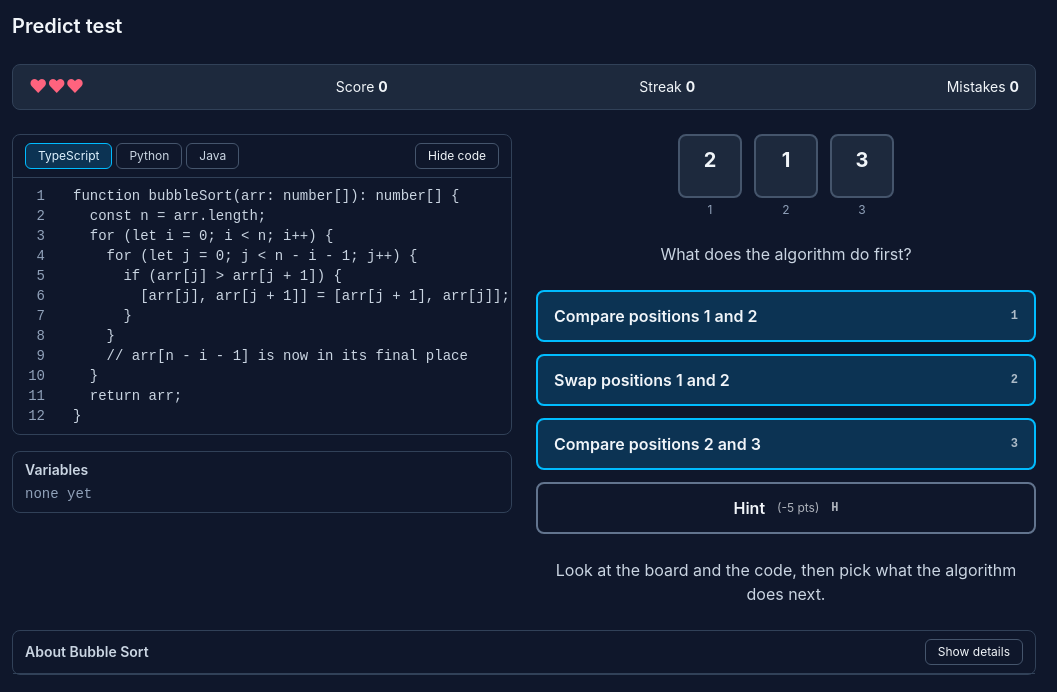
Test: PredictScreen › Hint costs points, opens Watch before the question and keeps the game
Click the button "Compare positions 1 and 2 1".
click(656, 316)  # box [536,290,1036,342]
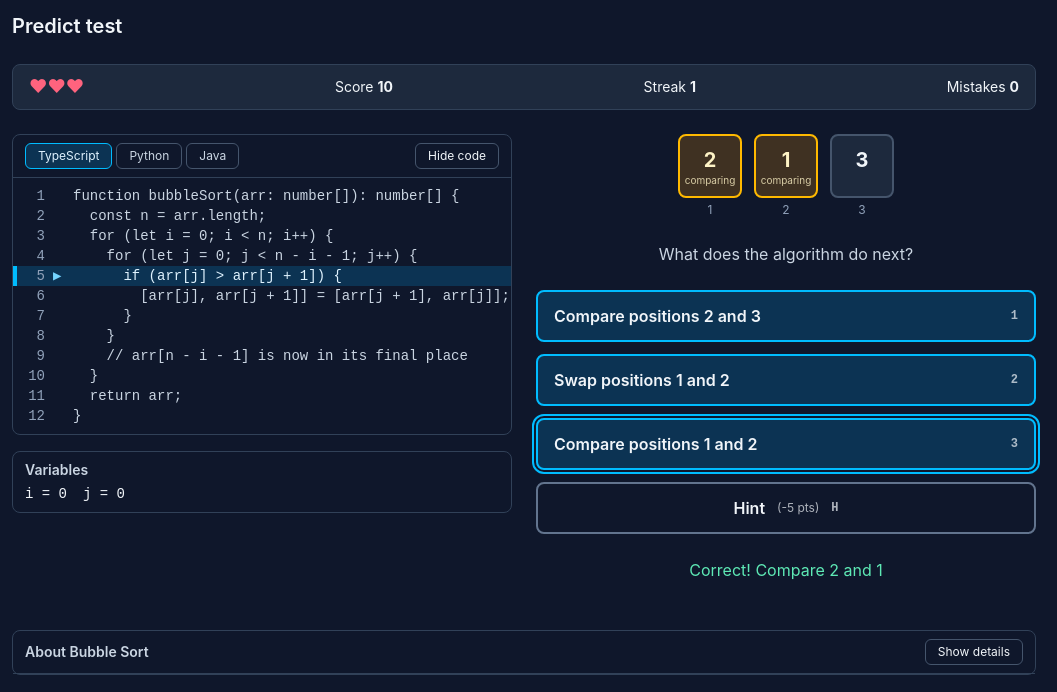
Click the button "Hint (-5 pts) H".
click(786, 508)  # box [536,482,1036,534]
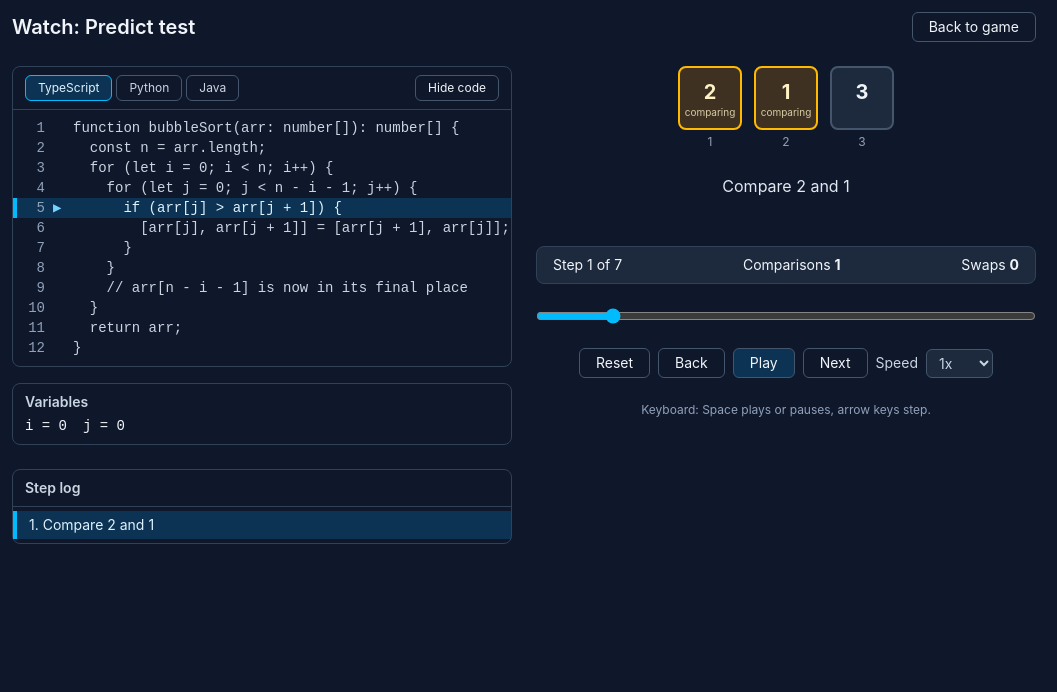
Expected: the text "Step 1 of 7" is shown, [553,255,622,275]
Click the button "Back to game".
click(974, 27)  # box [912,12,1036,42]
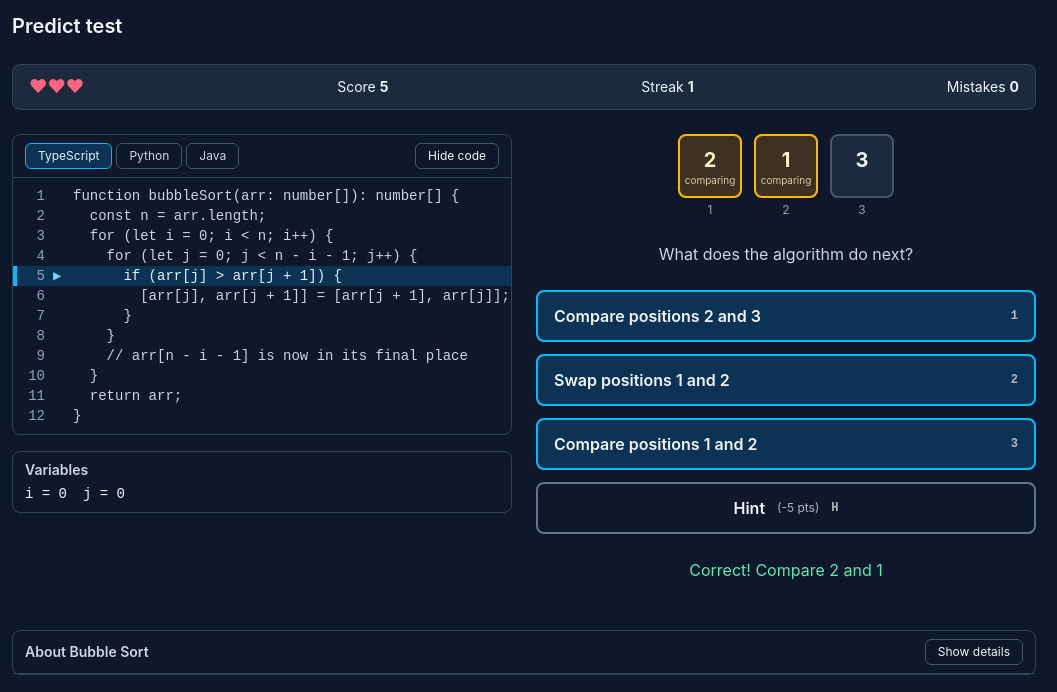
Expected: the element named "Game stats" shows "Score 5", [12,64,1036,110]
Expected: the picture named "Lives: 3 of 3" is shown, [29,73,84,101]
